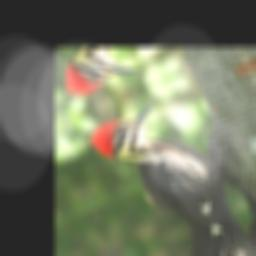Woodpecker: (84, 80, 254, 249)
